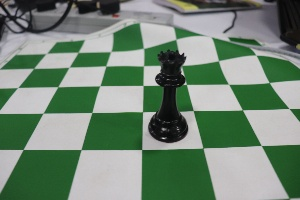black_queen: (138, 40, 195, 147)
